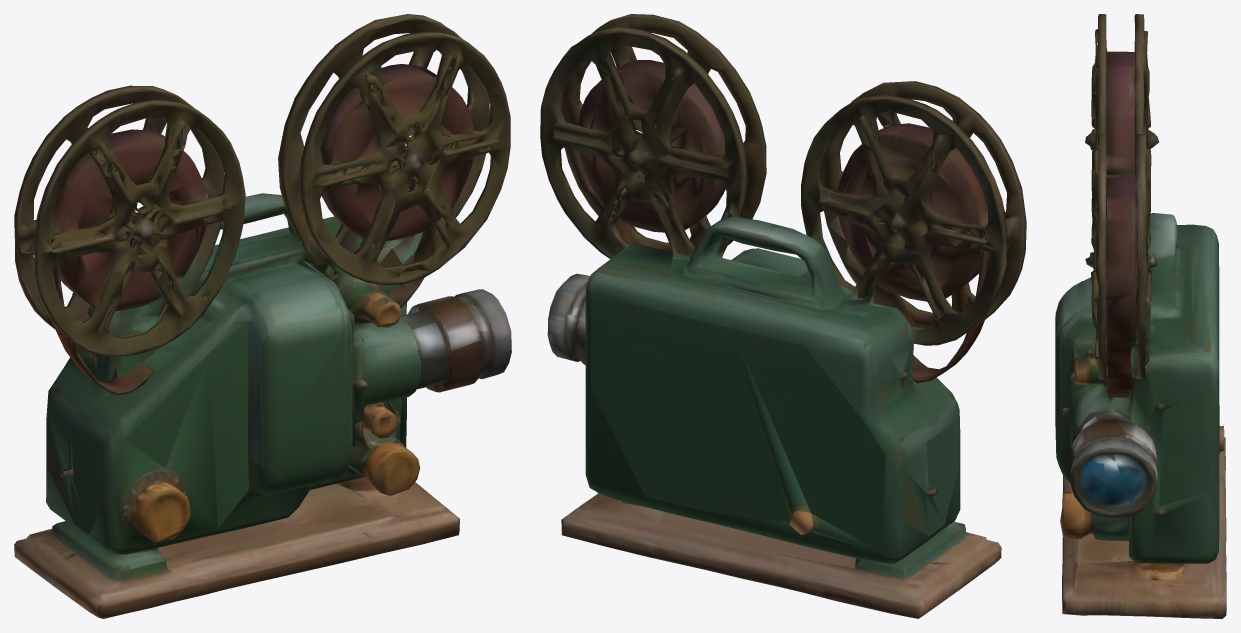
Rendered from sc-reel-projector.glb.
3 renders of one model, left to right at view 1: azimuth 30°, elevation 25°; view 2: azimuth 150°, elevation 25°; view 3: azimuth 270°, elevation 25°, orthographic. The views are drawn at different scales.
Parts seen in each view (by area): view 1: geometry_0; view 2: geometry_0; view 3: geometry_0.
Part boxes in pixels (x1,y1,x2,y2): geometry_0: (14, 14, 511, 618); geometry_0: (540, 14, 1026, 618); geometry_0: (1055, 14, 1226, 618).
Bounding box in the file's own units: 1 × 1 × 0.3375.
1 material, 1 textured.
